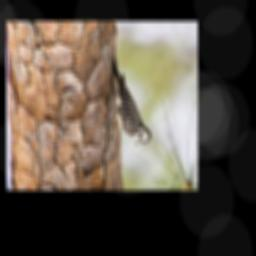Woodpecker: (105, 52, 151, 146)
